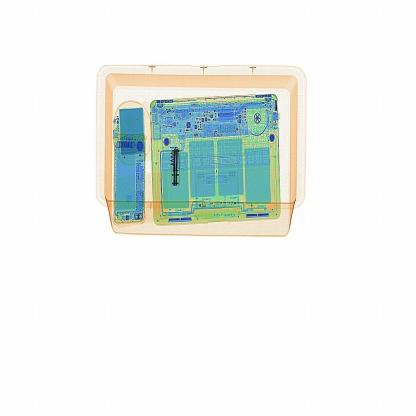scissors: (165, 137, 194, 193)
